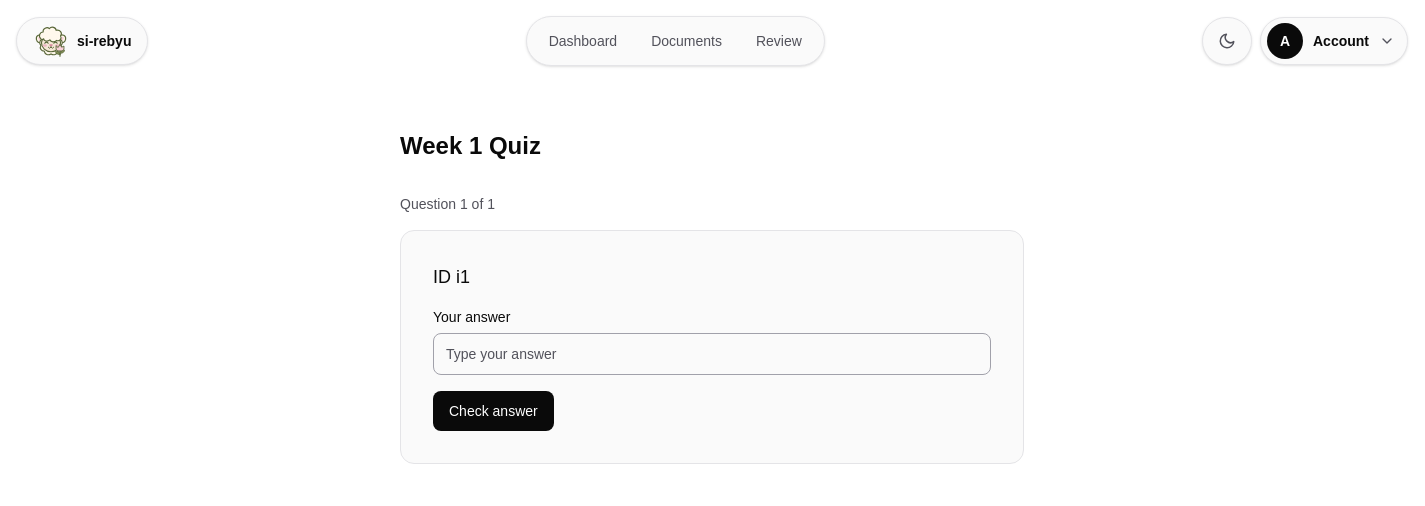
Quiz › the last question shows "See results" instead of "Next"
The image size is (1425, 506).
Check: the text "ID i1" is shown, box [433, 267, 470, 287]
Type "DHCP" into the field labelled "Your answer" at point(712, 354), box [433, 333, 991, 375]
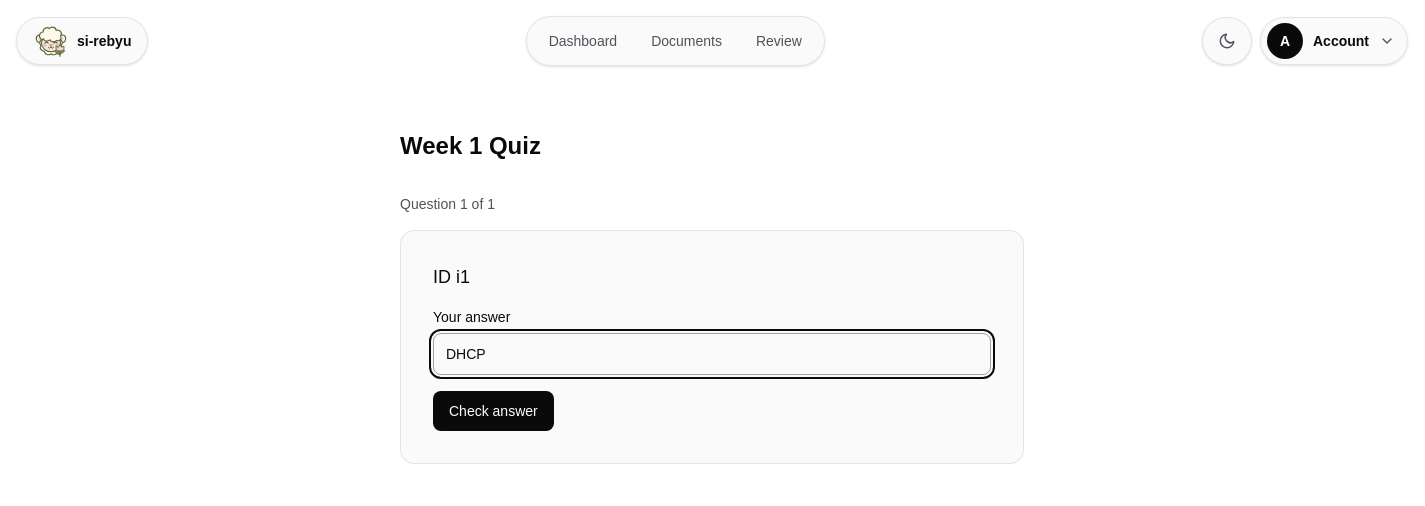
Click the button "Check answer" at point(493, 411), box [433, 391, 554, 431]
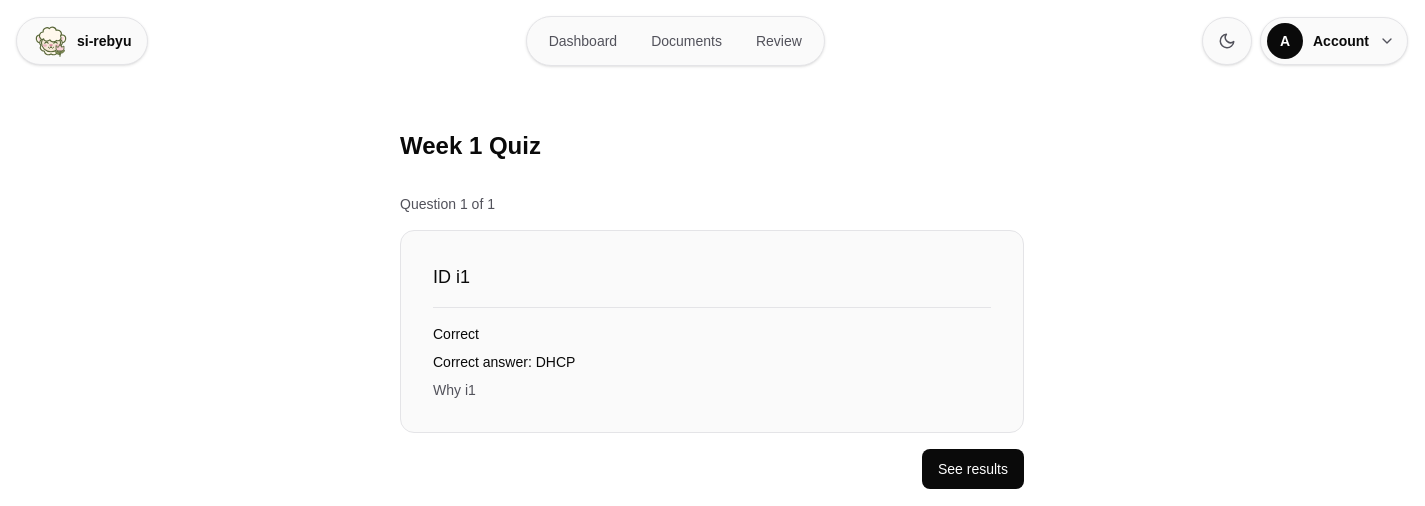
Check: the button "See results" is shown, box [922, 449, 1024, 489]
